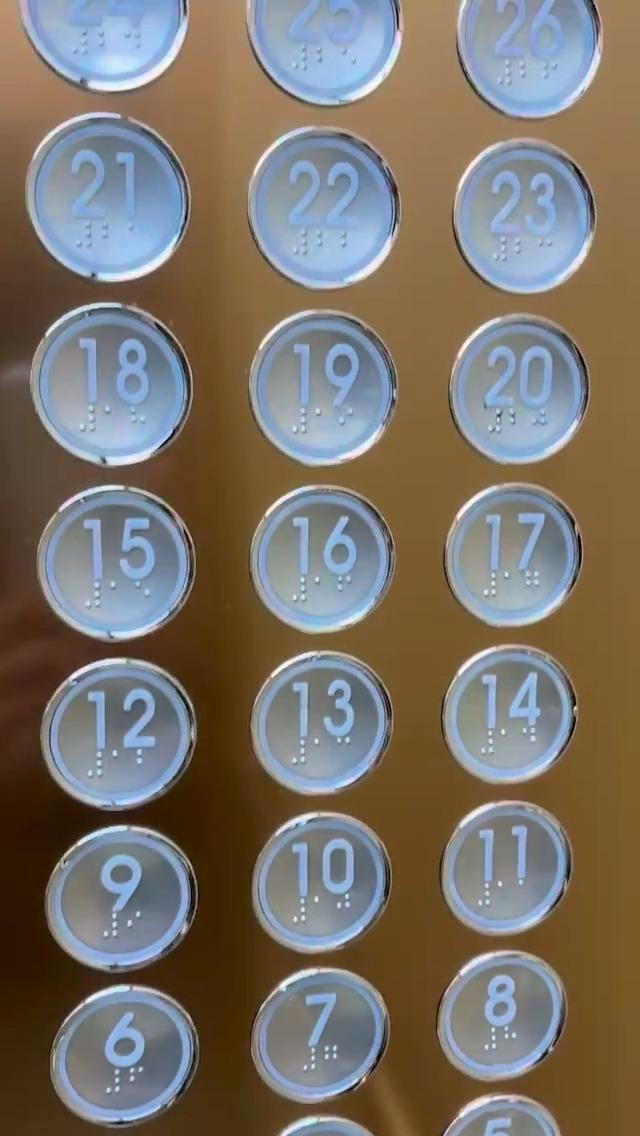button: (29, 104, 201, 286), (443, 127, 603, 296), (40, 477, 196, 644), (434, 304, 603, 456), (236, 314, 400, 463), (259, 120, 403, 286), (21, 313, 177, 464), (240, 961, 394, 1106), (451, 646, 603, 786), (431, 947, 567, 1096), (251, 663, 400, 799), (441, 496, 591, 626), (47, 673, 199, 797), (60, 826, 197, 963), (256, 486, 389, 626), (253, 821, 387, 956), (71, 989, 216, 1113), (446, 803, 580, 930), (458, 0, 618, 91)
